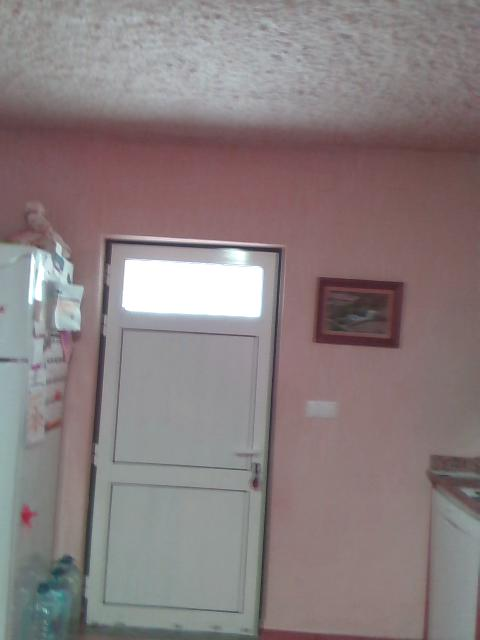closed_door: (81, 235, 281, 638)
